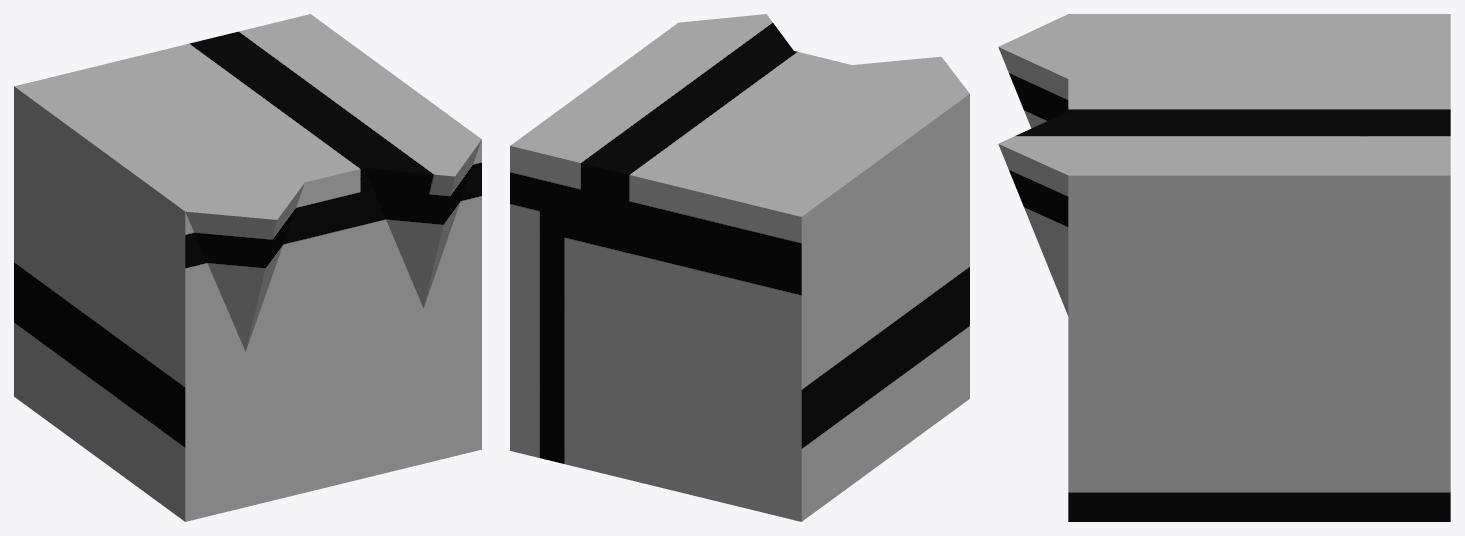
Rendered from head.obj.
3 views of the same model, side by side, from view 1: azimuth 30°, elevation 25°; view 2: azimuth 150°, elevation 25°; view 3: azimuth 270°, elevation 25° (orthographic). The views are drawn at different scales.
Visible parts, largest first — view 1: Head; view 2: Head; view 3: Head.
Part boxes in pixels (x1=…): Head: x1=14, y1=14, x2=481, y2=521; Head: x1=510, y1=14, x2=969, y2=521; Head: x1=998, y1=14, x2=1450, y2=521.
Size of the model in its own units: 2.09 by 2.09 by 2.47.
1 material, 1 textured.
